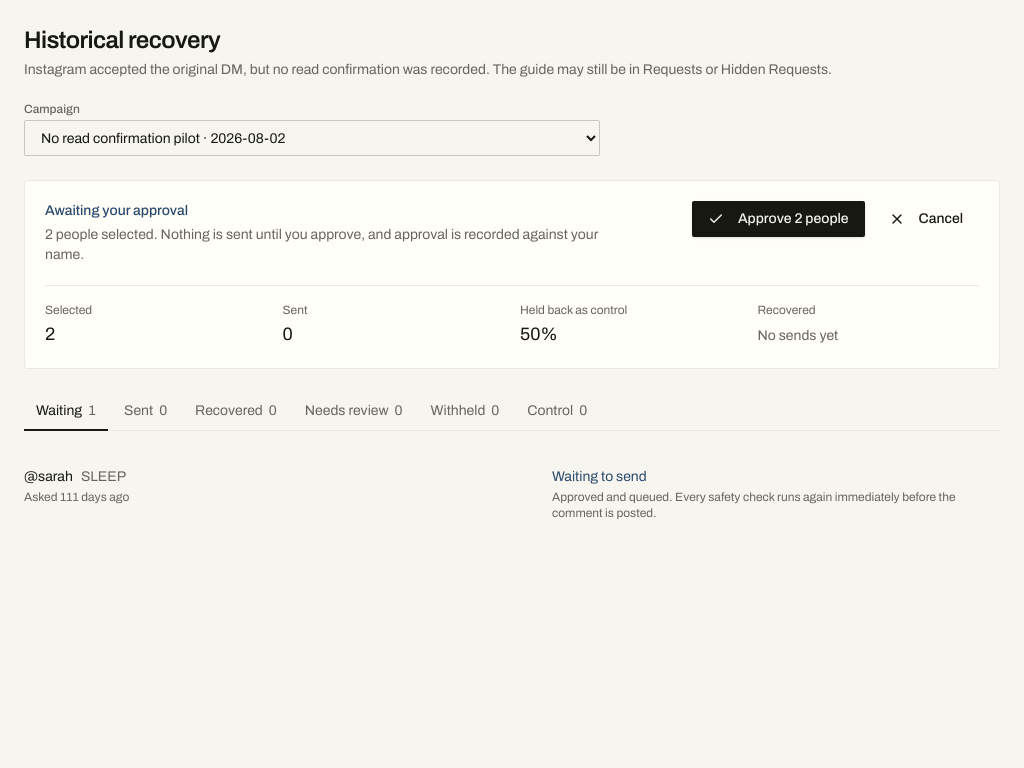
Test case: HistoricalRecovery › opens the real evidence drawer from a candidate row
This screenshot has width=1024, height=768.
Click the button with aria-label "Open @sarah SLEEP". click: (48, 476)
box: [24,455,1000,533]
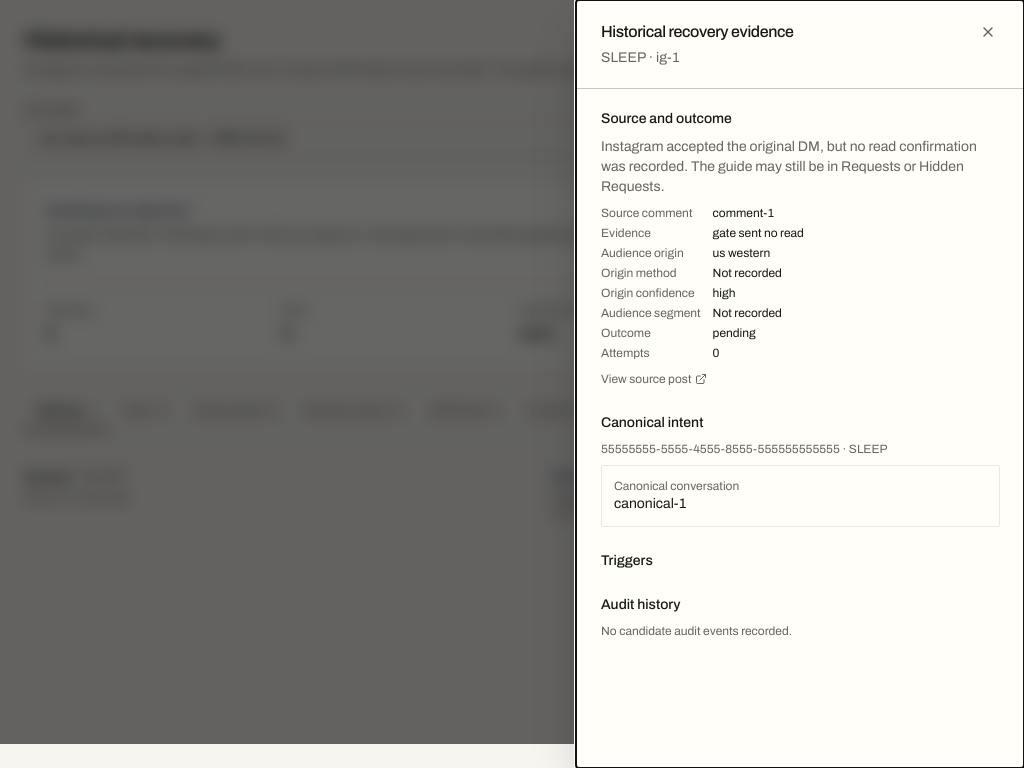
Result: the dialog "Historical recovery evidence" is shown at [576,0,1023,767]
